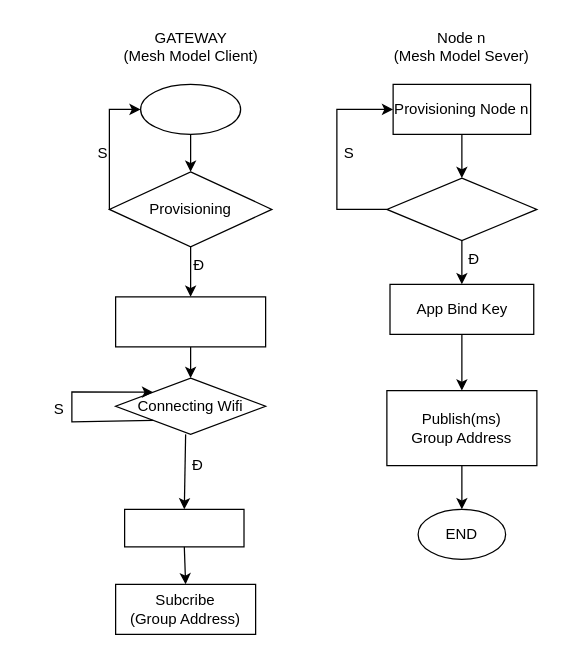
Some shapes in this 583 by 656 pixel diagram are drawn without their labels. The centre of each missing label's shape, as x and y in pixels:
Mesh Model Client: [183,527]
Provisioned: [461,209]
Provisioner: [190,321]
START: [190,108]
